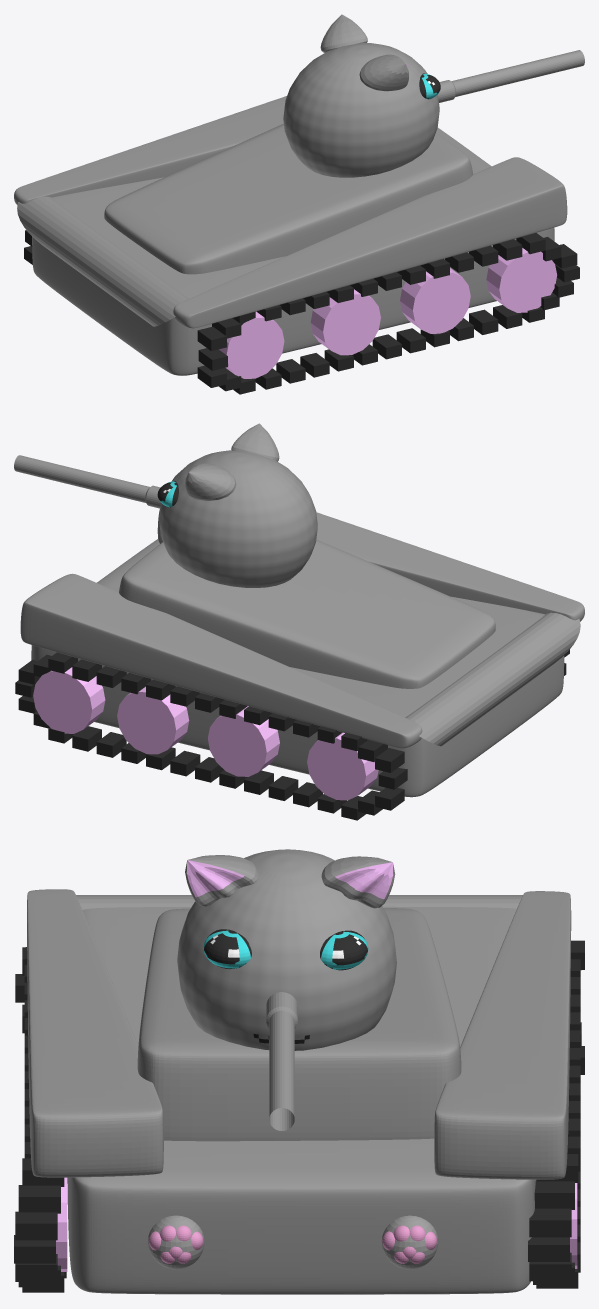
The model's file is tank.fbx.
3 views of the same model, one above another, from view 1: azimuth 30°, elevation 25°; view 2: azimuth 150°, elevation 25°; view 3: azimuth 270°, elevation 25° (orthographic). The views are drawn at different scales.
Parts seen in each view (by area): view 1: Cube.002, Cube.043, Cube, Sphère, Cube.044, Cylindre.011, Cube.035, Cube.039, Cylindre.006, Cylindre.005, Cylindre.007, Cylindre.008 (+8 smaller); view 2: Cube.002, Cube.044, Cube, Sphère, Cube.043, Cylindre.011, Cube.019, Cube.023, Cylindre.004, Cylindre.001, Cylindre.002, Cylindre.003 (+7 smaller); view 3: Cube, Cube.002, Cube.044, Cube.043, Sphère, Cylindre.010, Cylindre.011, Cube.037, Cône.001, Cube.006, Cône, Cube.023 (+10 smaller).
Boxes of the visible parts, x1,y1,x2,y2 form: Cube.002: [104, 123, 473, 274]; Cube.043: [173, 157, 567, 328]; Cube: [32, 127, 554, 375]; Sphère: [283, 43, 439, 177]; Cube.044: [14, 96, 286, 205]; Cylindre.011: [17, 196, 188, 326]; Cube.035: [254, 305, 522, 389]; Cube.039: [256, 239, 522, 321]; Cylindre.006: [400, 268, 470, 333]; Cylindre.005: [486, 248, 557, 312]; Cylindre.007: [310, 289, 380, 355]; Cylindre.008: [219, 311, 284, 378]; Cube.002: [119, 539, 495, 688]; Cube.044: [20, 573, 422, 748]; Cube: [31, 539, 564, 797]; Sphère: [159, 450, 317, 587]; Cube.043: [157, 509, 584, 621]; Cylindre.011: [405, 612, 580, 746]; Cube.019: [72, 726, 347, 813]; Cube.023: [72, 659, 342, 743]; Cylindre.004: [33, 667, 105, 733]; Cylindre.001: [117, 686, 189, 754]; Cylindre.002: [208, 706, 279, 776]; Cylindre.003: [307, 732, 378, 800]; Cube: [67, 906, 536, 1294]; Cube.002: [137, 908, 461, 1141]; Cube.044: [434, 891, 571, 1179]; Cube.043: [27, 889, 163, 1177]; Sphère: [177, 849, 396, 1050]; Cylindre.010: [266, 992, 297, 1130]; Cylindre.011: [76, 895, 522, 909]; Cube.037: [15, 1158, 64, 1240]; Cône.001: [321, 856, 395, 908]; Cube.006: [529, 1154, 578, 1237]; Cône: [185, 855, 258, 906]; Cube.023: [567, 959, 580, 1166].
Bounding box in the file's own units: 740 × 352 × 489.
